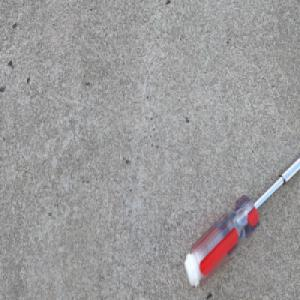Screwdriver: (182, 151, 300, 289)
